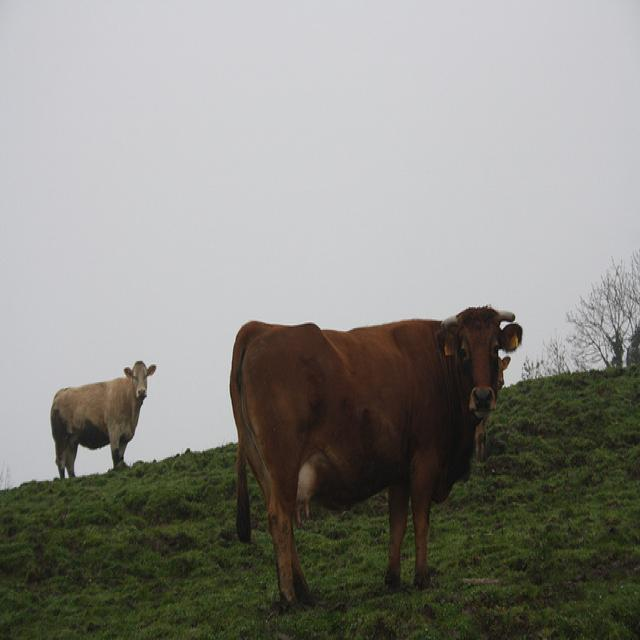cow: (228, 306, 514, 629), (50, 360, 155, 478)
